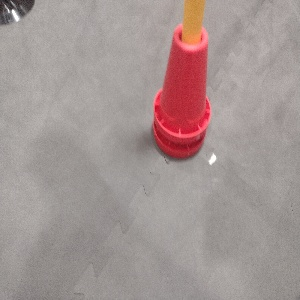Red_2: (147, 19, 217, 161)
